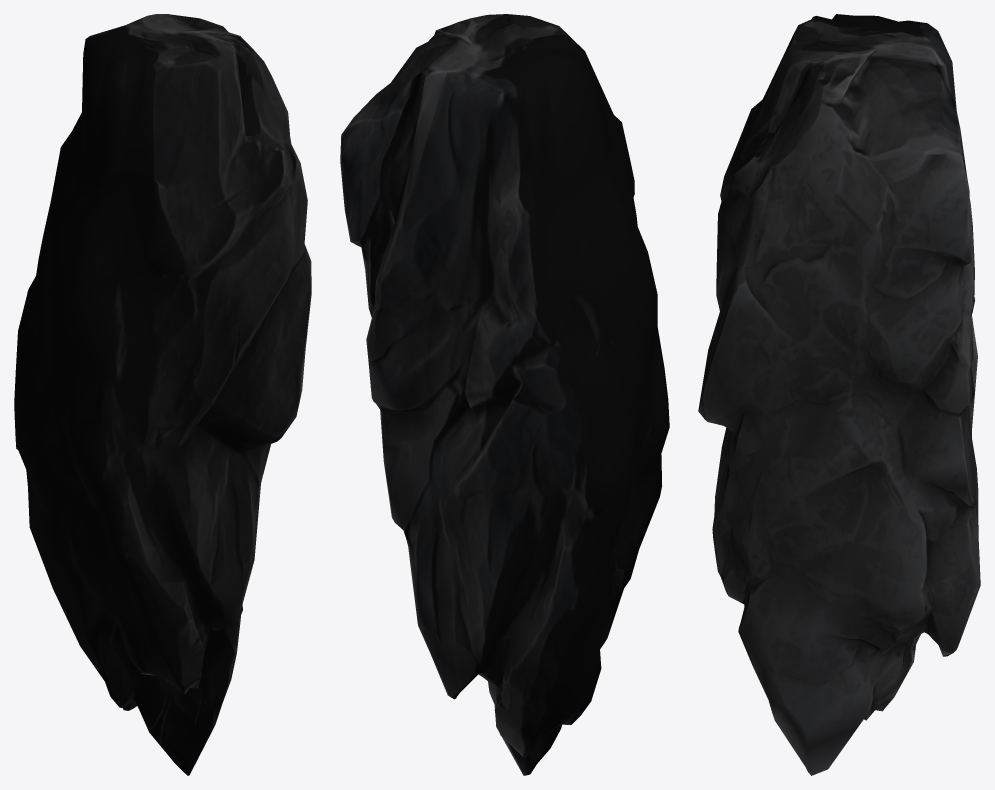
File: rock.glb
The picture shows the model from 3 angles, left to right: view 1: azimuth 30°, elevation 25°; view 2: azimuth 150°, elevation 25°; view 3: azimuth 270°, elevation 25°; orthographic projection. The views are drawn at different scales.
Visible parts, largest first — view 1: SM_LandscapePieceDark2.002; view 2: SM_LandscapePieceDark2.002; view 3: SM_LandscapePieceDark2.002.
Part boxes in pixels (x1,y1,x2,y2): SM_LandscapePieceDark2.002: (14,14,311,775); SM_LandscapePieceDark2.002: (340,14,669,775); SM_LandscapePieceDark2.002: (698,14,980,775).
Size of the model in its own units: 4.04 by 11.53 by 3.98.
Materials: 1 (1 with a texture image).
